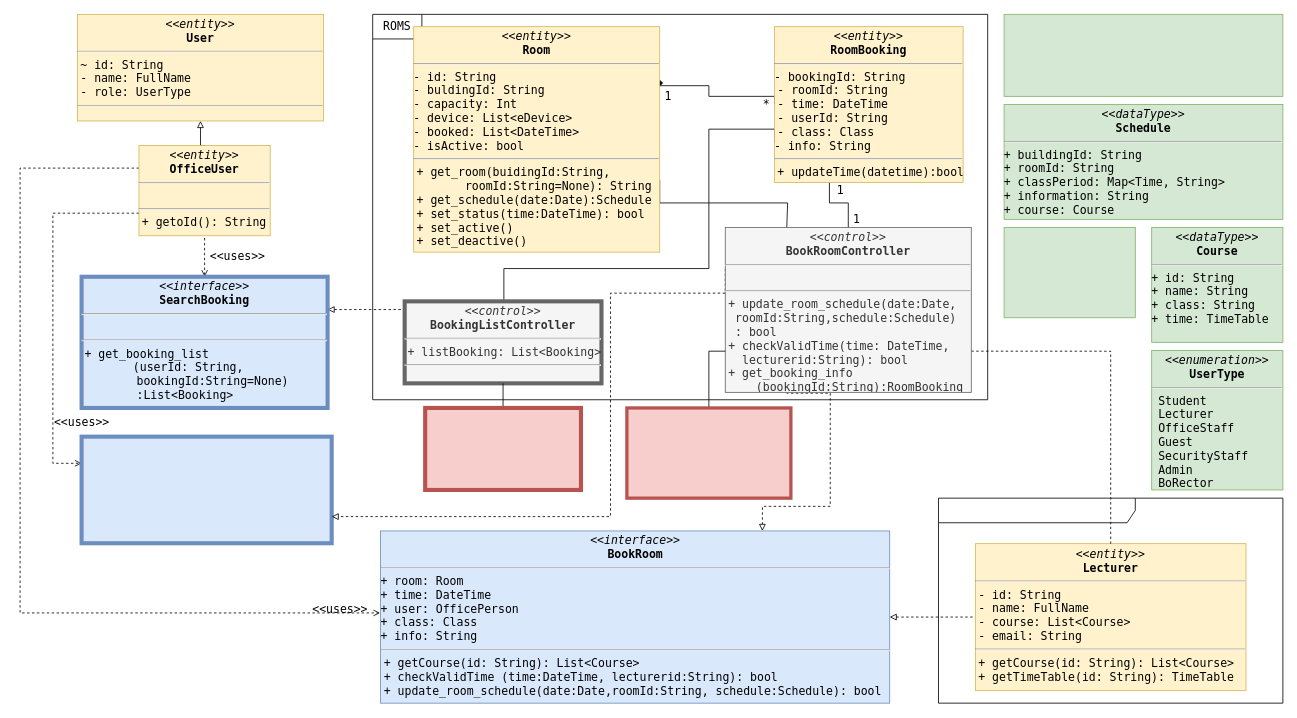
Image size: 1297x718. Some labels were removed from this diagram. Here are the shapes that lost their labels. From the top down, the box of each, then its label:
(1003, 14, 1283, 96): <<dataType>> TimeTable + datetime: Map<DateofWeek, List<time>> + week: Int
(1003, 227, 1135, 318): <<dataType>> FullName + fName: String + mName: String + lName: String
(423, 405, 583, 492): <<boundary>> BookingListView + displayBList()
(625, 406, 792, 499): <<boundary>> RoomBookingView + displayRBooking() + displayNoti(string)
(79, 434, 333, 545): <<interface>> ChooseBooking + get_booking_info (bookingId:String):RoomBooking
(938, 497, 1283, 703): User Management System
